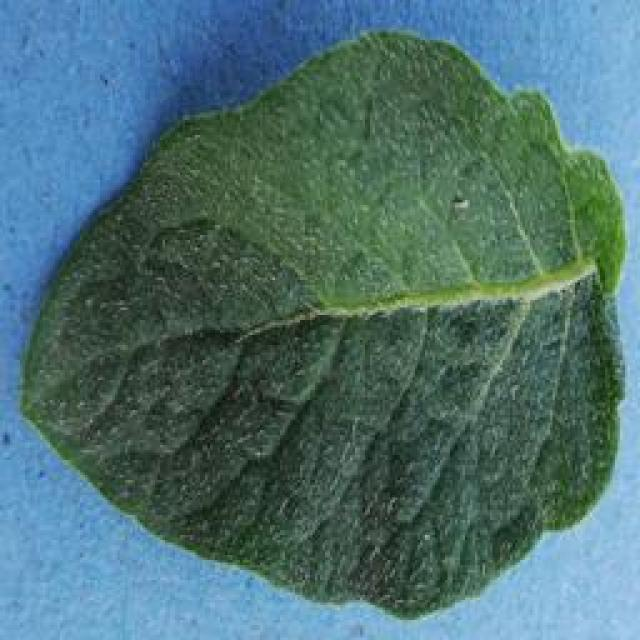Potato_Healthy: (20, 28, 622, 618)
